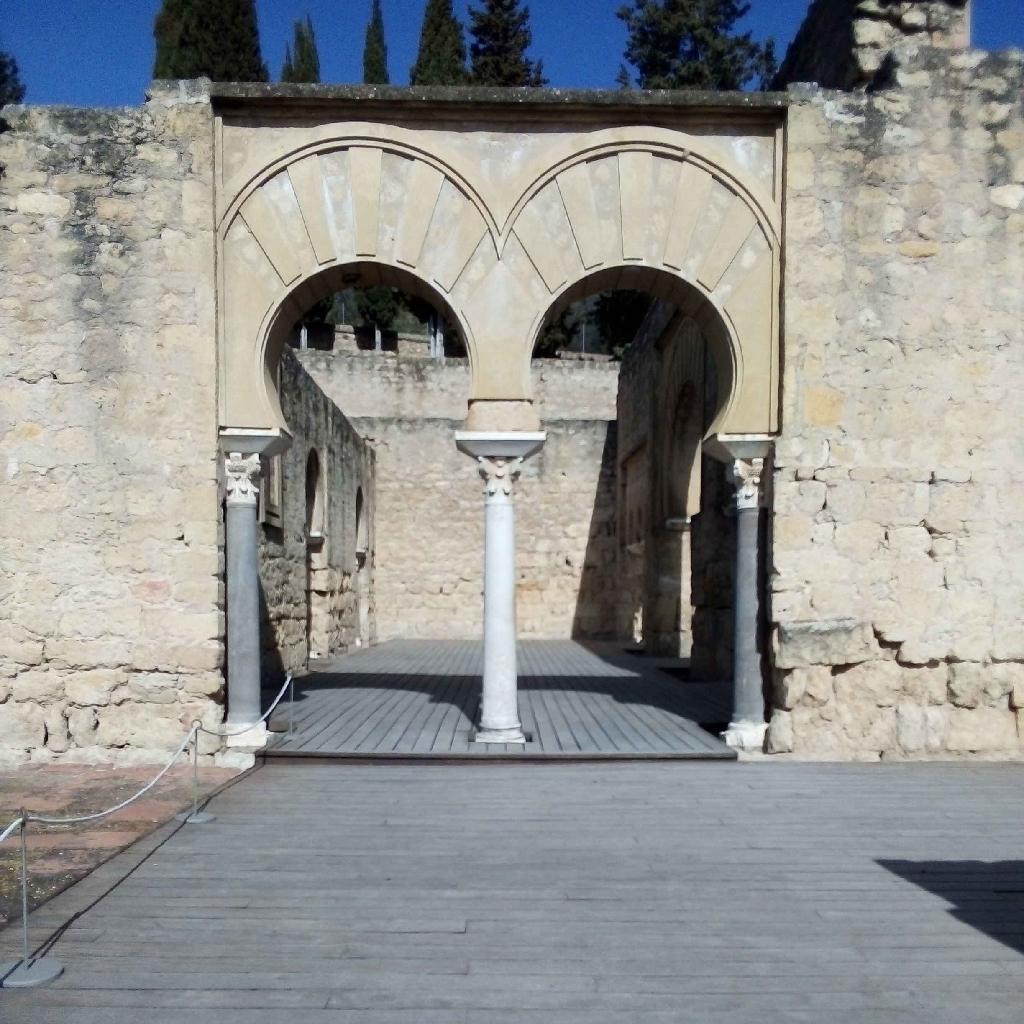arco-herradura: (493, 239, 760, 496), (236, 237, 498, 477)
